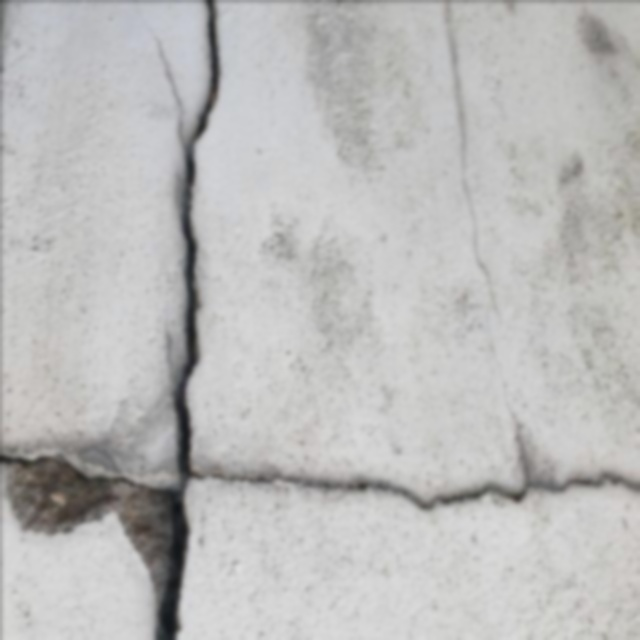SurfaceCrack: (123, 0, 262, 639), (31, 421, 640, 537)
